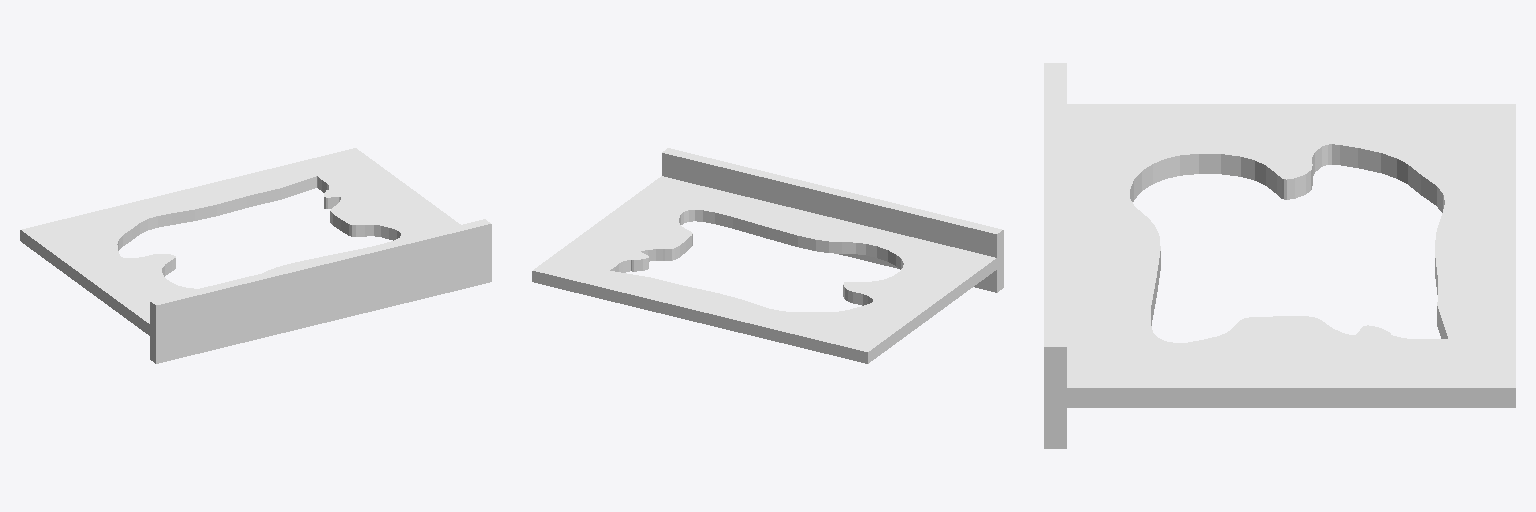
robot.urdf — forest_wall_2:
<?xml version="1.0" encoding="utf-8"?>
<!-- This URDF was automatically created by SolidWorks to URDF Exporter! Originally created by Stephen Brawner (brawner@gmail.com) 
     Commit Version: 1.6.0-4-g7f85cfe  Build Version: 1.6.7995.38578
     For more information, please see http://wiki.ros.org/sw_urdf_exporter -->
<robot
  name="forest_wall_2">
  <link
    name="base_link">
    <inertial>
      <origin
        xyz="0.0162265817664572 -0.321553220794243 -5.33857717591383E-07"
        rpy="0 0 0" />
      <mass
        value="518.159228687865" />
      <inertia
        ixx="286.486271689934"
        ixy="0.468664550644772"
        ixz="-0.000501762399689921"
        iyy="499.819040740251"
        iyz="-2.32059086031774E-05"
        izz="779.441682707198" />
    </inertial>
    <visual>
      <origin
        xyz="0 0 0"
        rpy="0 0 0" />
      <geometry>
        <mesh
          filename="package://emnv_scene/urdf_models/forest_wall_2/meshes/forest_wall_2.STL" />
      </geometry>
      <material
        name="">
        <color
          rgba="1 1 1 1" />
      </material>
    </visual>
    <collision>
      <origin
        xyz="0 0 0"
        rpy="0 0 0" />
      <geometry>
        <mesh
          filename="package://emnv_scene/urdf_models/forest_wall_2/meshes/forest_wall_2.STL" />
      </geometry>
    </collision>
  </link>
</robot>

--- Render facts (derived) ---
3 views of the same robot in one strip: view 1: azimuth 30°, elevation 25°; view 2: azimuth 150°, elevation 25°; view 3: azimuth 270°, elevation 25° (orthographic).
Robot: forest_wall_2 — 1 links, 0 joints (none); root link base_link; default pose: every joint at zero.
Visible links, largest first — view 1: base_link; view 2: base_link; view 3: base_link.
Boxes of the visible links, x1,y1,x2,y2 form: base_link: (20,148,491,363); base_link: (532,148,1003,363); base_link: (1044,63,1515,448).
Bounding box of the posed robot: 3 × 2.1 × 0.5 m (x, y, z).
1 mesh visuals loaded from 1 distinct referenced files (1 binary STL).
